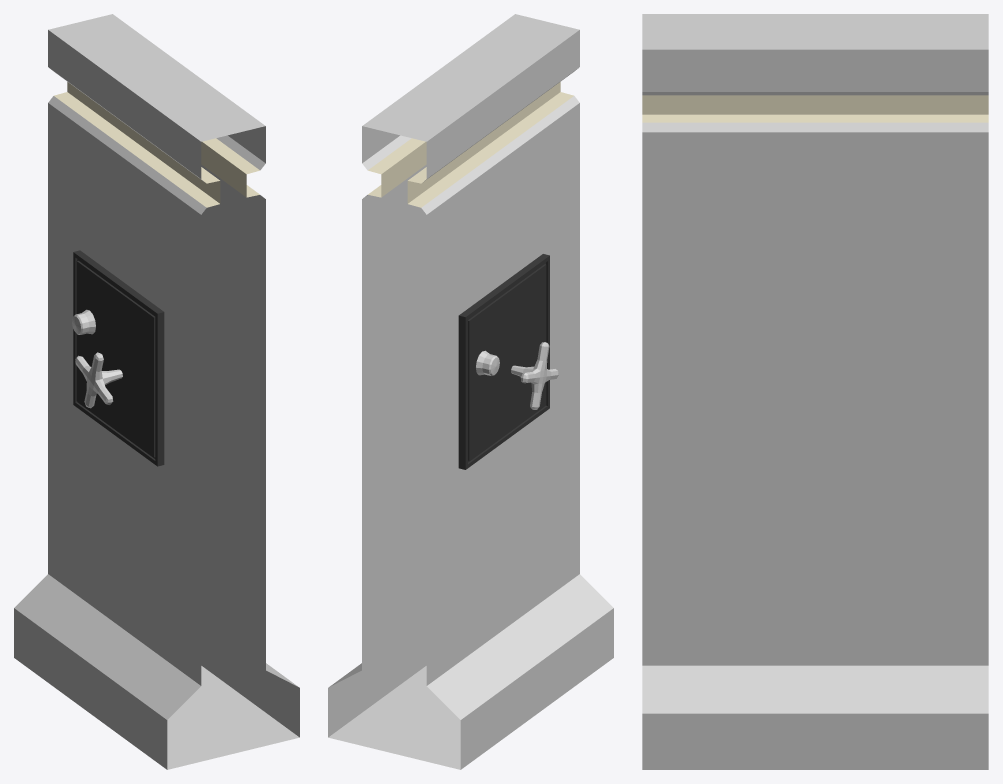
Rendered from wall-tresor.fbx.
3 renders of one model, left to right at view 1: azimuth 30°, elevation 25°; view 2: azimuth 150°, elevation 25°; view 3: azimuth 270°, elevation 25°, orthographic. The views are drawn at different scales.
Parts seen in each view (by area): view 1: wall_tresor, tresor, handle, lock; view 2: wall_tresor, tresor, handle; view 3: wall_tresor.
Boxes of the visible parts, x1=… form: wall_tresor: x1=14, y1=14, x2=299, y2=769; tresor: x1=73, y1=250, x2=164, y2=466; handle: x1=75, y1=352, x2=122, y2=408; lock: x1=72, y1=309, x2=95, y2=334; wall_tresor: x1=328, y1=14, x2=613, y2=769; tresor: x1=458, y1=254, x2=549, y2=469; handle: x1=511, y1=342, x2=558, y2=409; wall_tresor: x1=642, y1=14, x2=988, y2=769.
Bounding box in the file's own units: 51.22 × 223 × 100.
